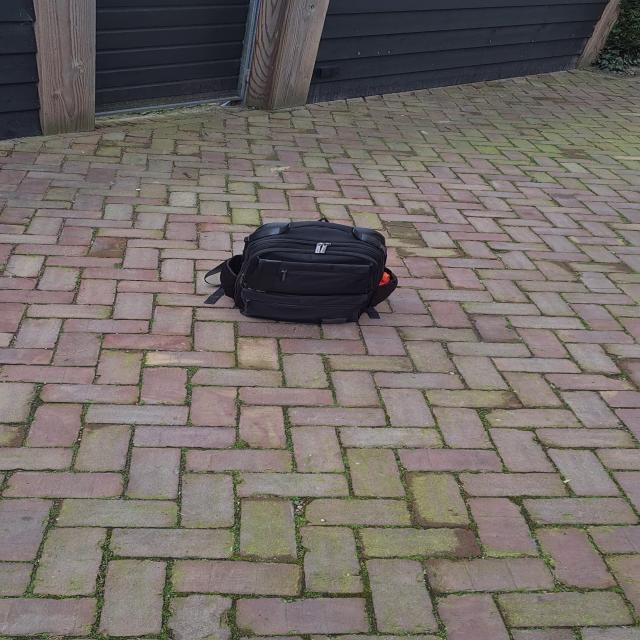backpack: (203, 219, 401, 330)
